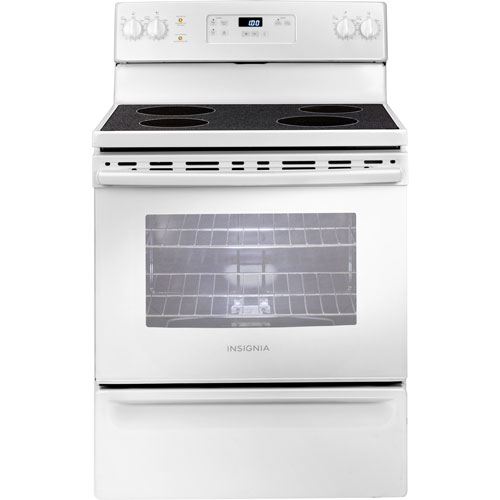stove: (82, 4, 415, 500)
